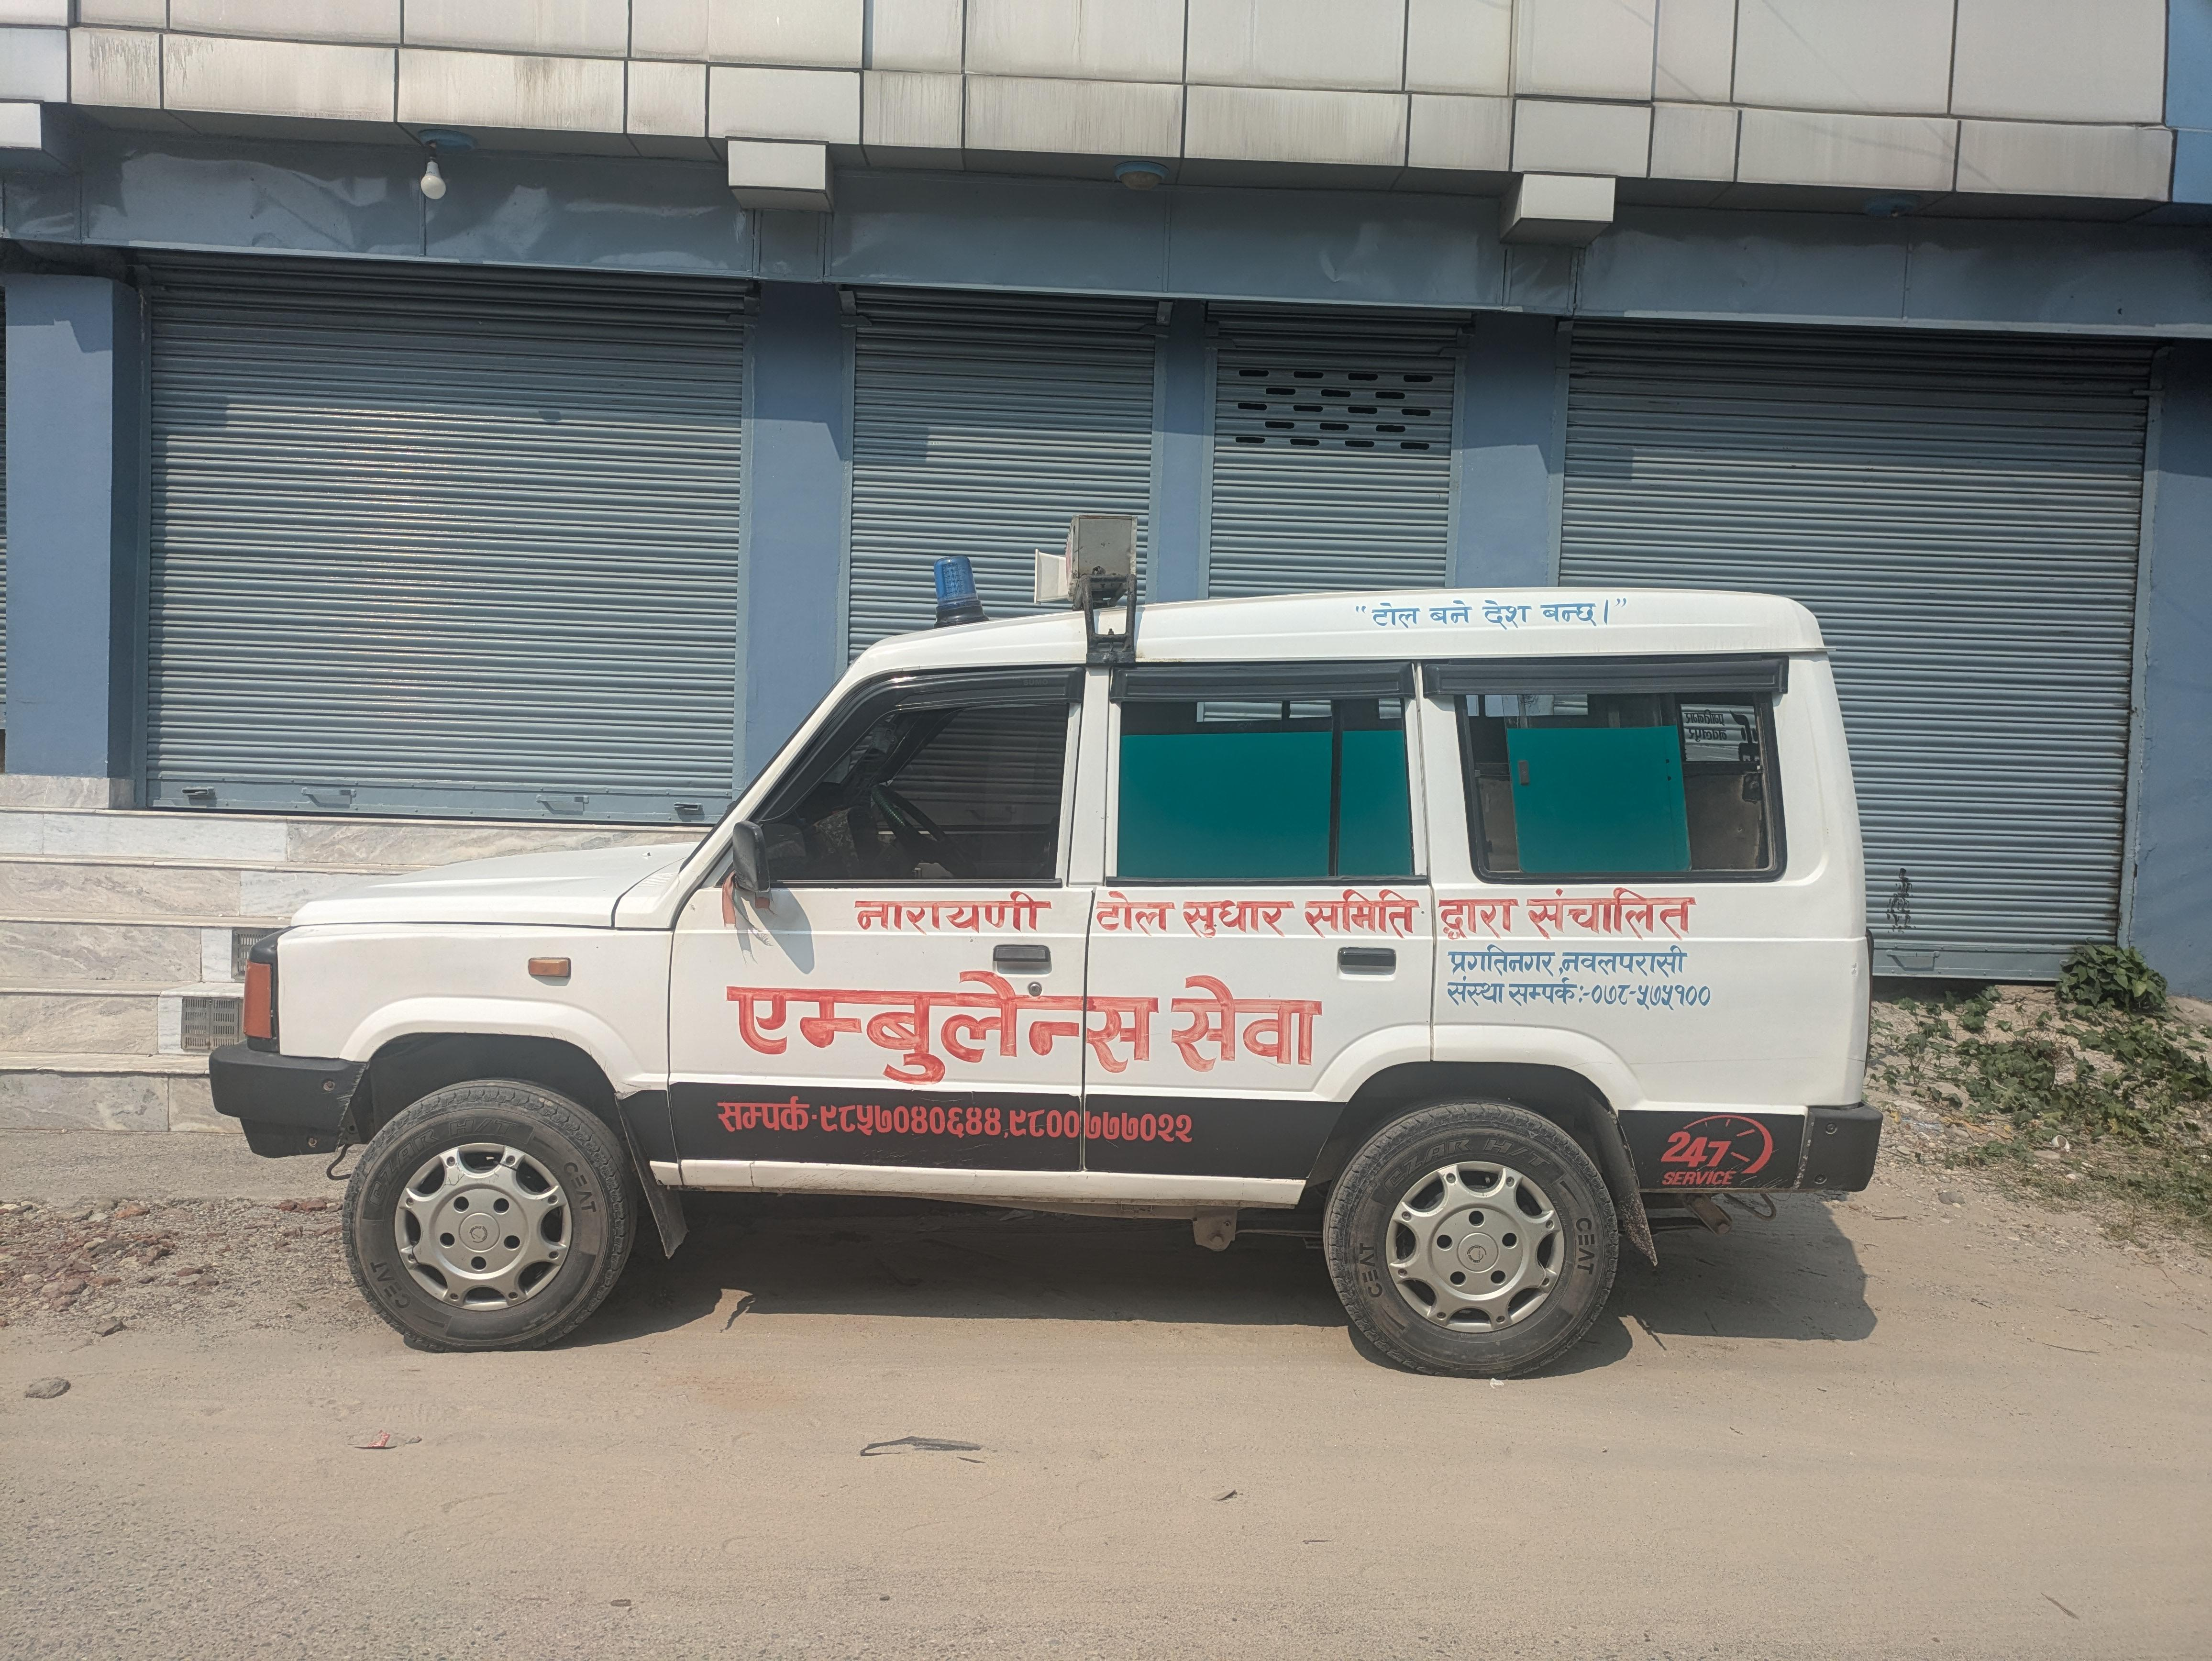ambulance: (162, 504, 1893, 1398)
